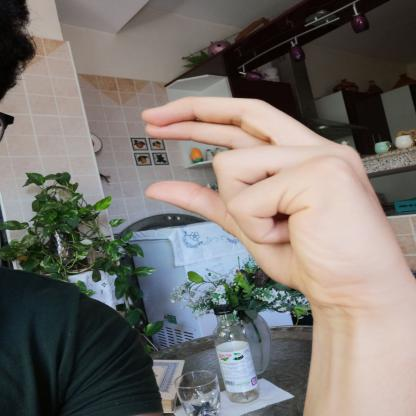DHELL: (127, 87, 415, 302)
